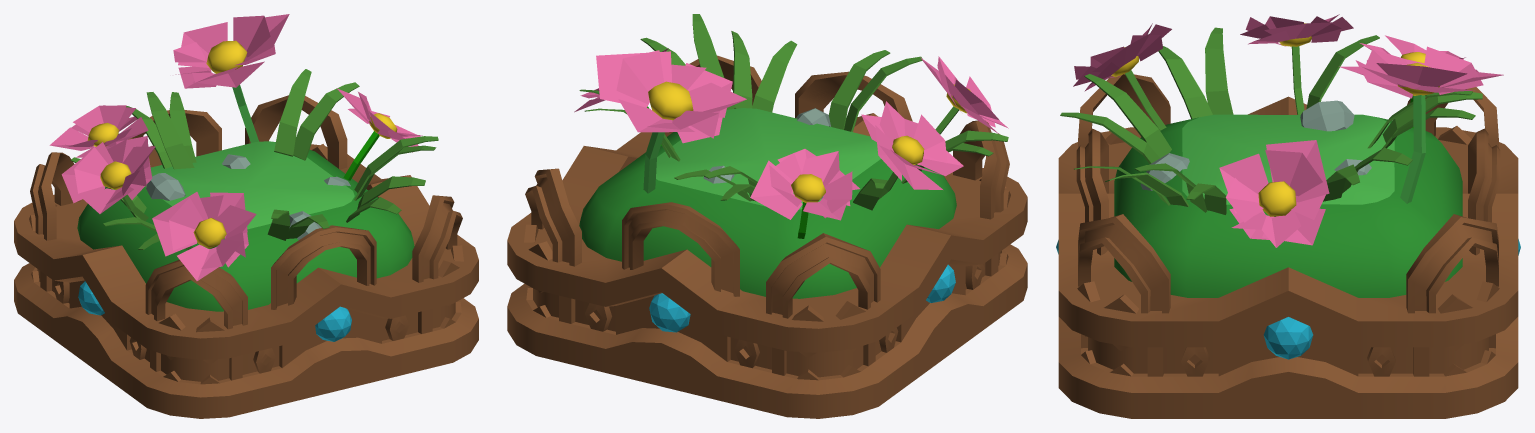
Rendered from Tile_field.fbx.
3 views of the same model, side by side, from view 1: azimuth 30°, elevation 25°; view 2: azimuth 150°, elevation 25°; view 3: azimuth 270°, elevation 25° (orthographic). The views are drawn at different scales.
Parts seen in each view (by area): view 1: Cube.008; view 2: Cube.008; view 3: Cube.008.
Boxes of the visible parts, x1,y1,x2,y2 form: Cube.008: (14, 14, 478, 418); Cube.008: (507, 14, 1027, 418); Cube.008: (1056, 14, 1520, 418).
Size of the model in its own units: 209 by 144 by 202.
